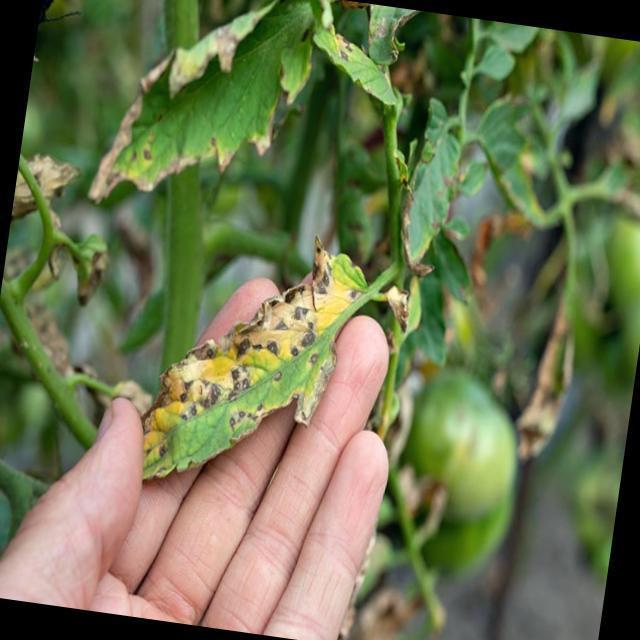Septoria: (134, 252, 379, 509)
